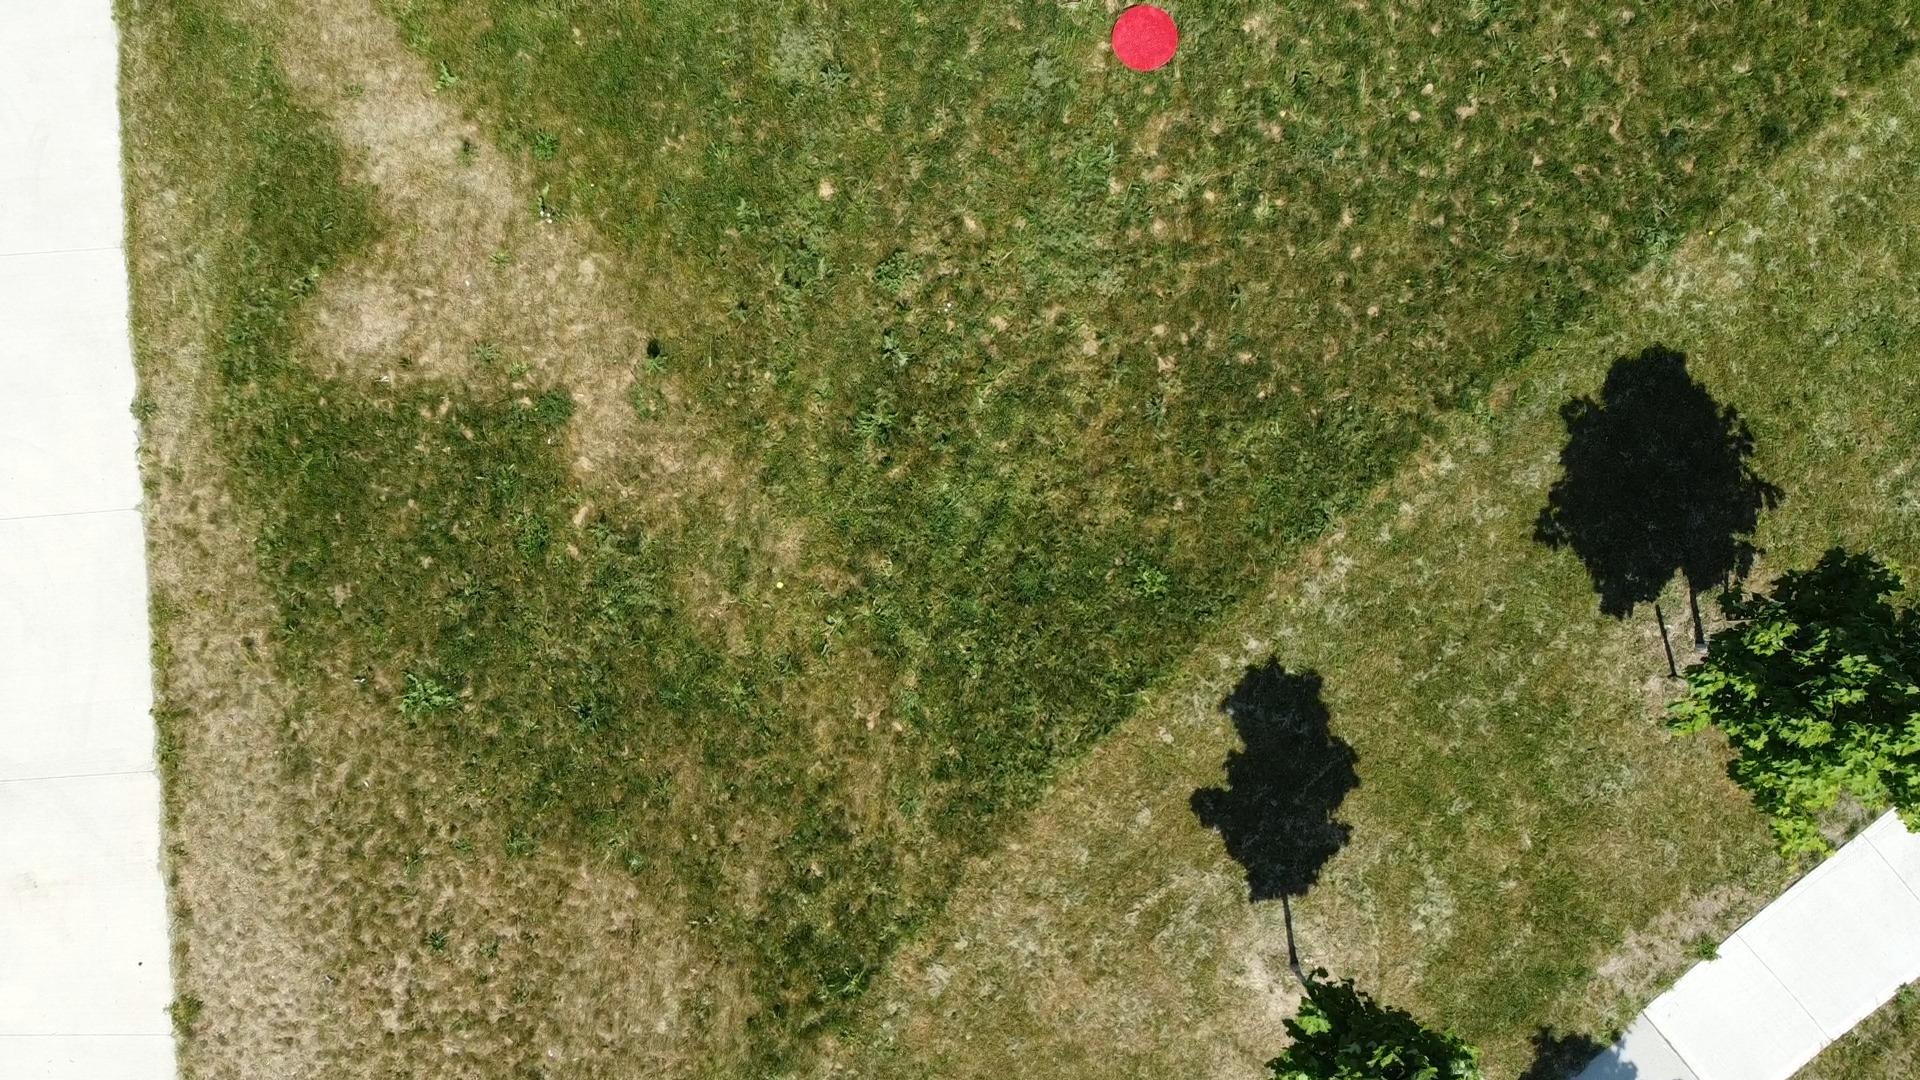Red: (1108, 1, 1182, 74)
